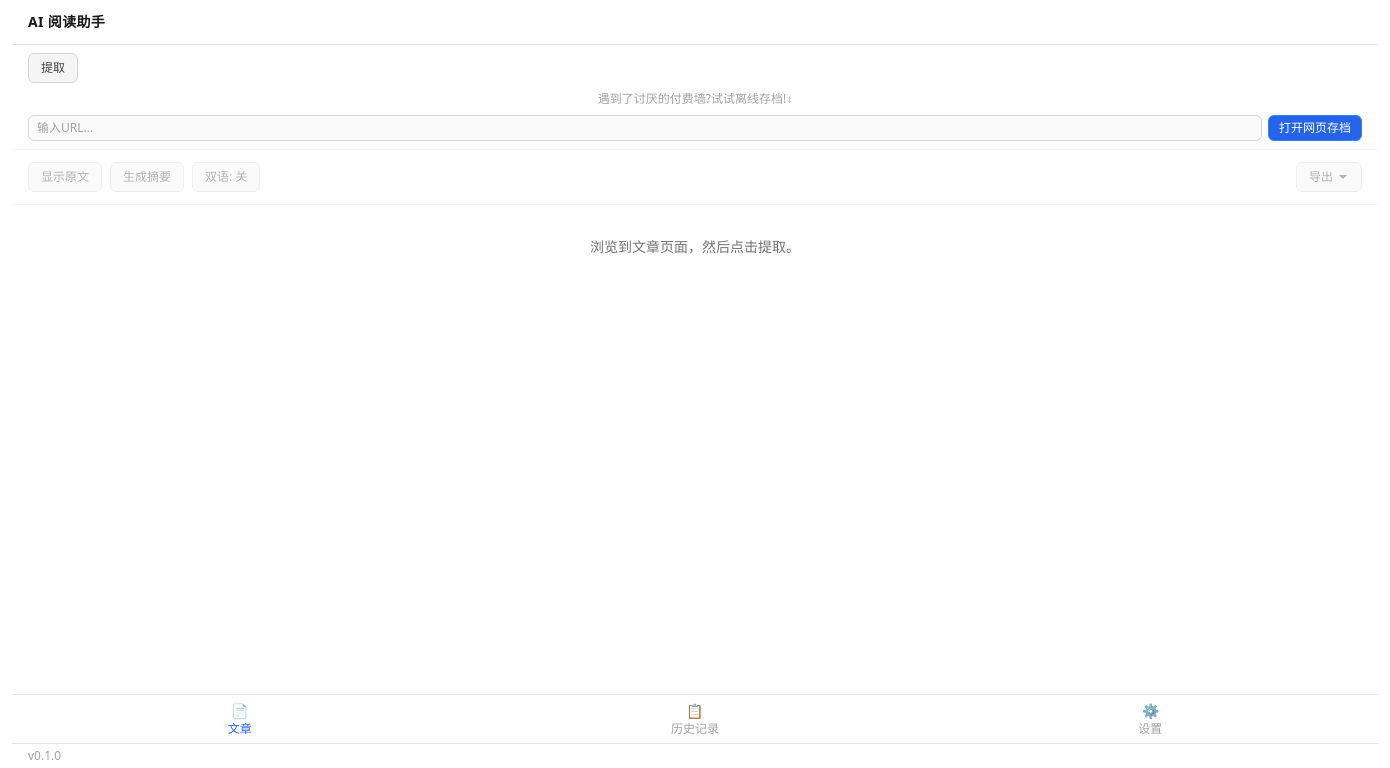
Test case: App – summary flow › transitions through extracting → article-ready → summarizing → done
The image size is (1390, 768).
Expected: the heading "AI 阅读助手" is shown, top-left (28, 12), bottom-right (105, 31)
Click the button "提取" at (53, 68), box top-left (28, 53), bottom-right (78, 83)
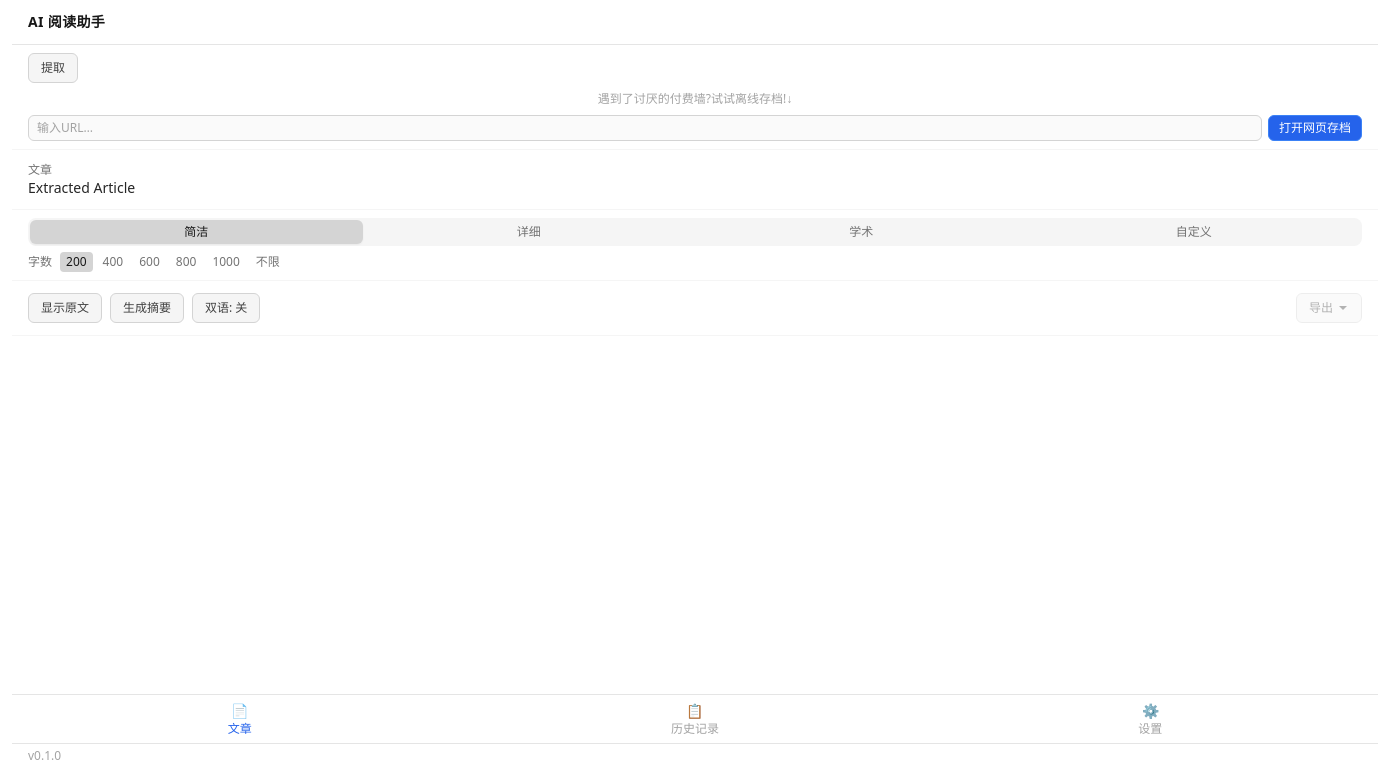
Expected: the heading "Extracted Article" is shown, top-left (28, 178), bottom-right (135, 197)
Click the button "生成摘要" at (147, 308), box top-left (110, 293), bottom-right (184, 323)
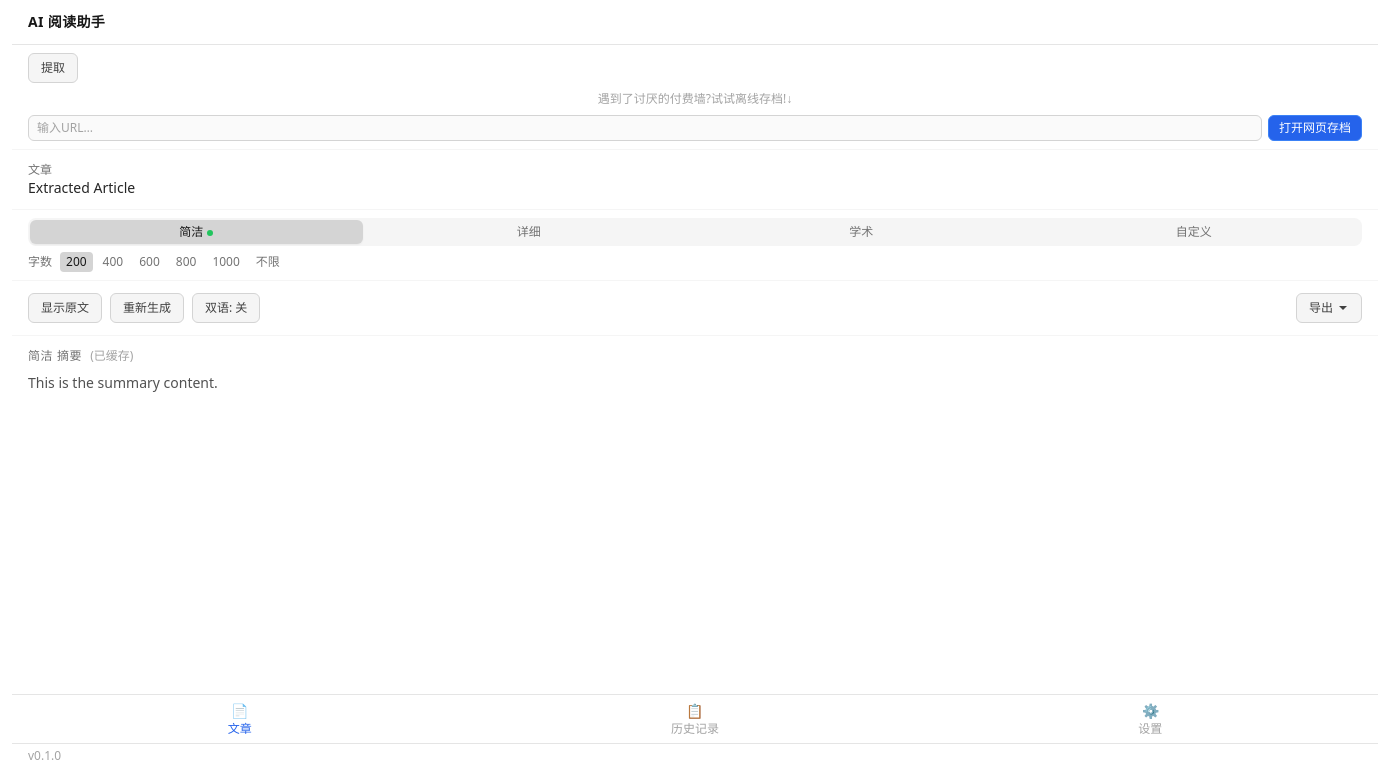
Expected: the text "This is the summary content." is shown, top-left (28, 373), bottom-right (218, 392)
